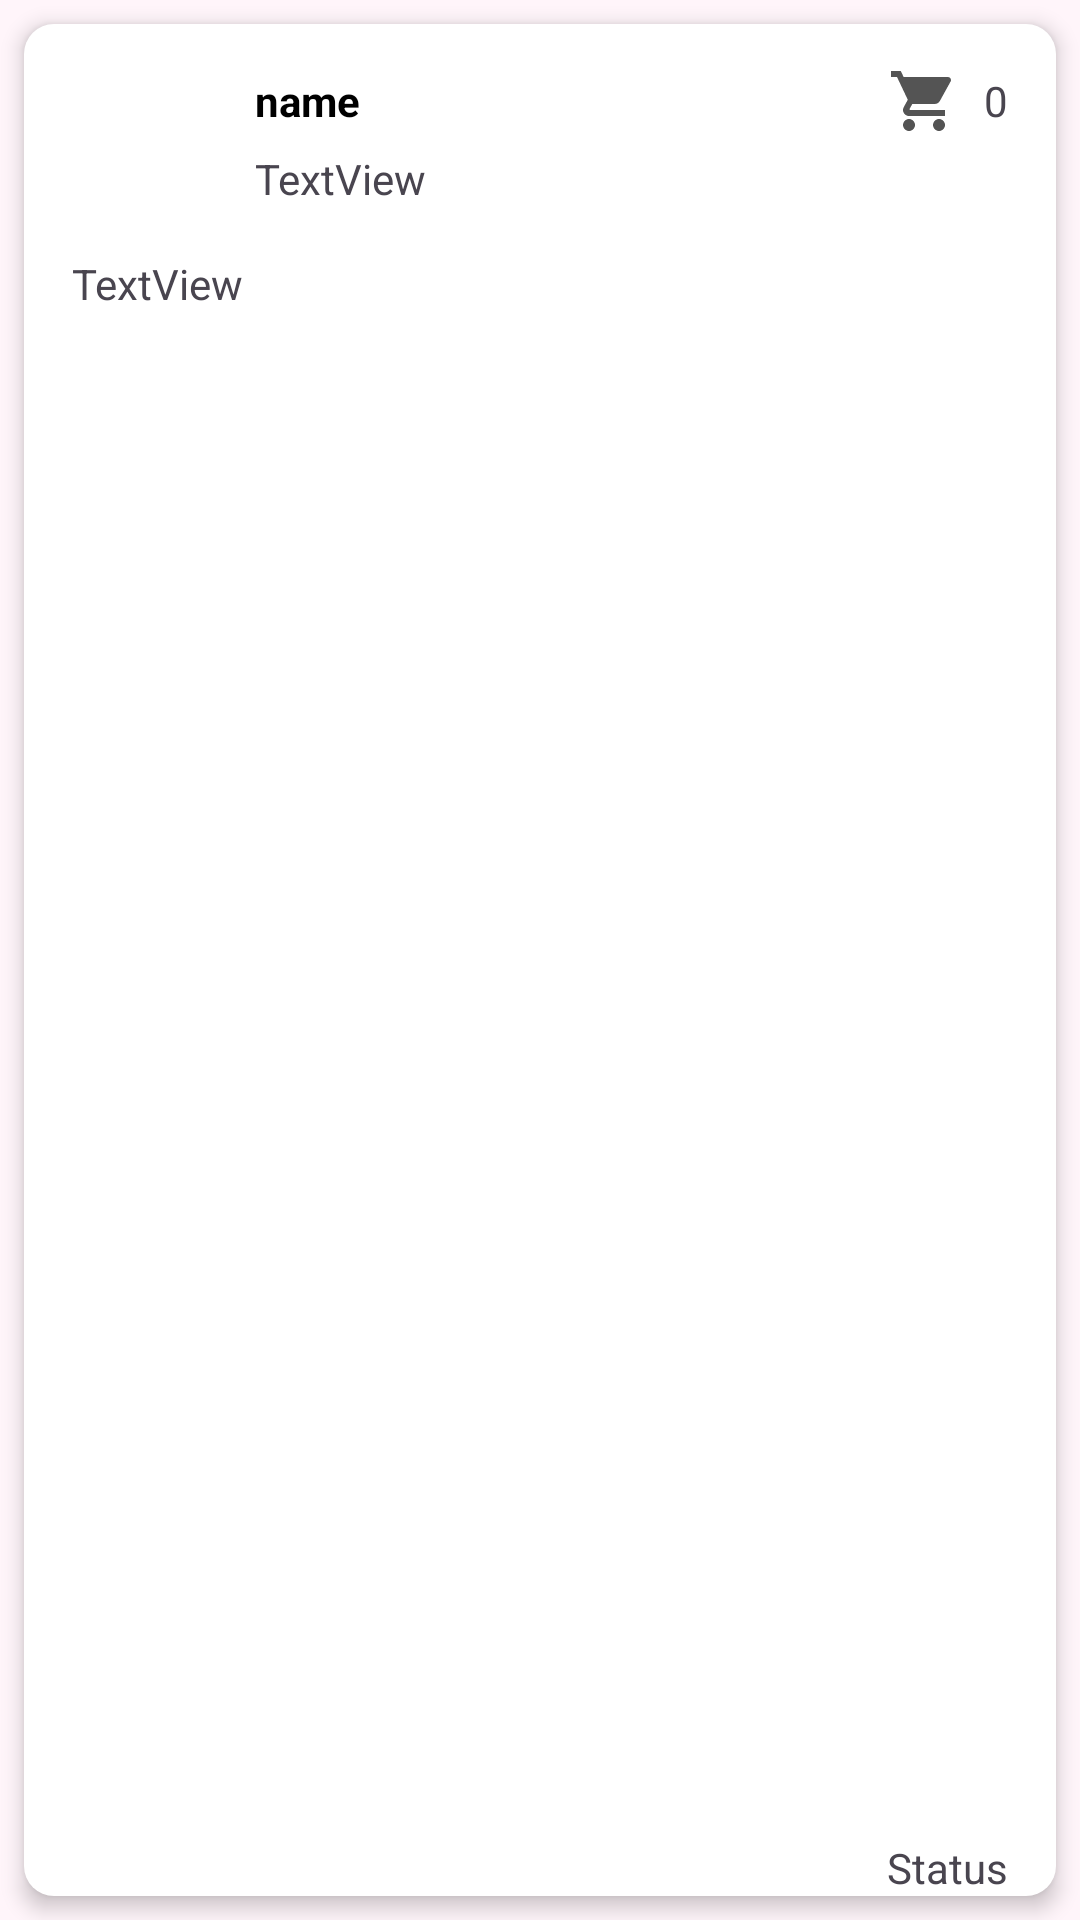

Point at icon controls on the screen. Image size 1080px x 1920px, points as point (x, y).
shopping cart: point (921, 101)
